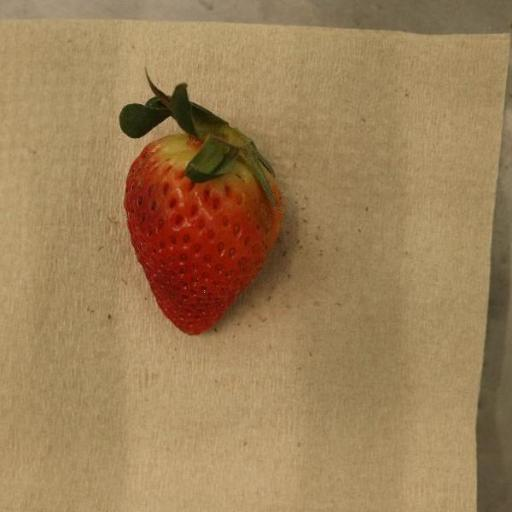Strawberry: (118, 72, 284, 337)
